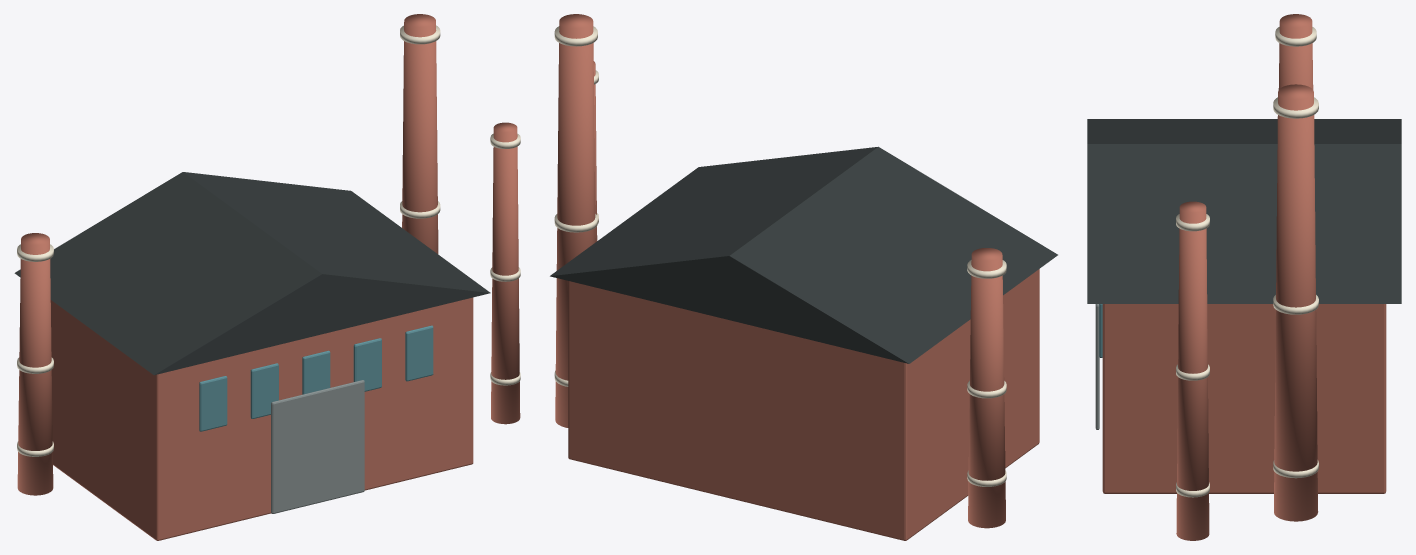
The model's file is foundry.glb.
The picture shows the model from 3 angles, left to right: view 1: azimuth 30°, elevation 25°; view 2: azimuth 150°, elevation 25°; view 3: azimuth 270°, elevation 25°; orthographic projection. The views are drawn at different scales.
Parts seen in each view (by area): view 1: foundry_brick, foundry_black, foundry_steel, foundry_glass, foundry_ivory; view 2: foundry_brick, foundry_black, foundry_ivory; view 3: foundry_brick, foundry_black, foundry_ivory, foundry_steel.
Part boxes in pixels (x1,y1,x2,y2): foundry_brick: [17, 14, 520, 540]; foundry_black: [14, 172, 490, 375]; foundry_steel: [271, 380, 364, 513]; foundry_glass: [199, 325, 433, 431]; foundry_ivory: [17, 25, 520, 456]; foundry_brick: [555, 14, 1039, 540]; foundry_black: [550, 146, 1057, 363]; foundry_ivory: [554, 26, 1006, 486]; foundry_brick: [1102, 14, 1386, 540]; foundry_black: [1087, 119, 1401, 303]; foundry_ivory: [1176, 27, 1318, 497]; foundry_steel: [1095, 304, 1099, 429].
Bounding box in the file's own units: 11.43 × 9 × 6.1.
